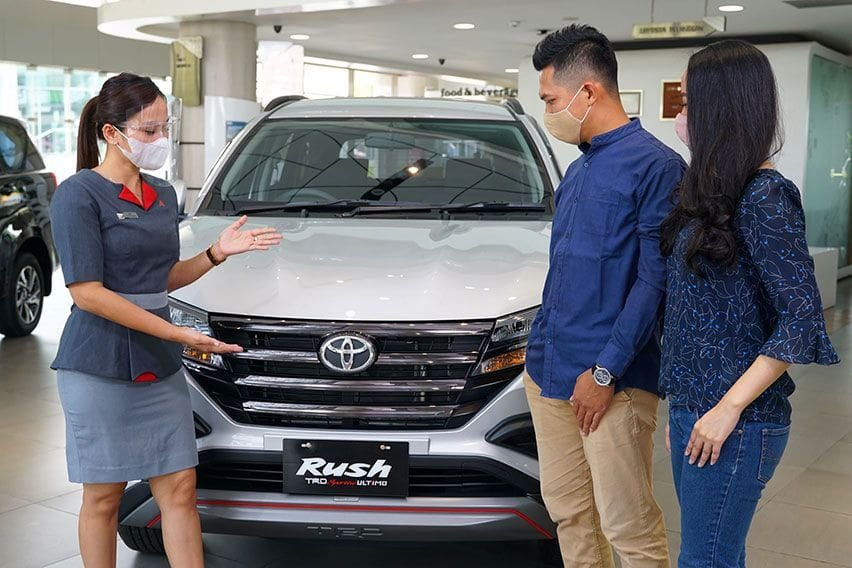mobil: (150, 70, 619, 534)
